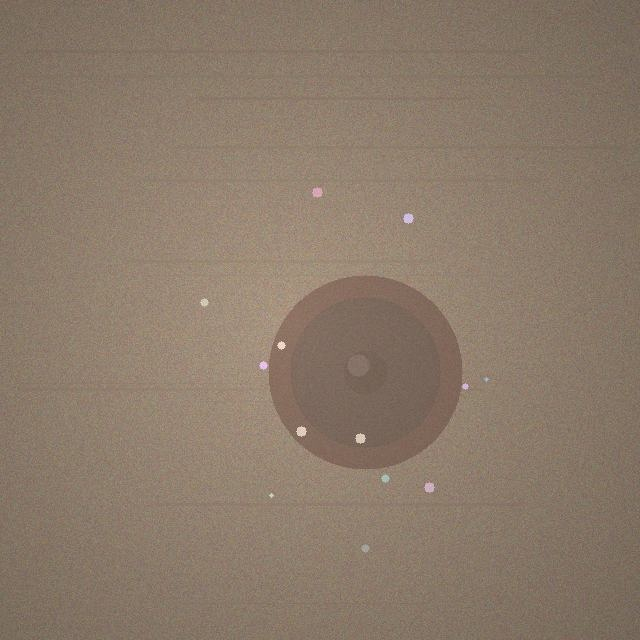overburn: (268, 275, 462, 469)
